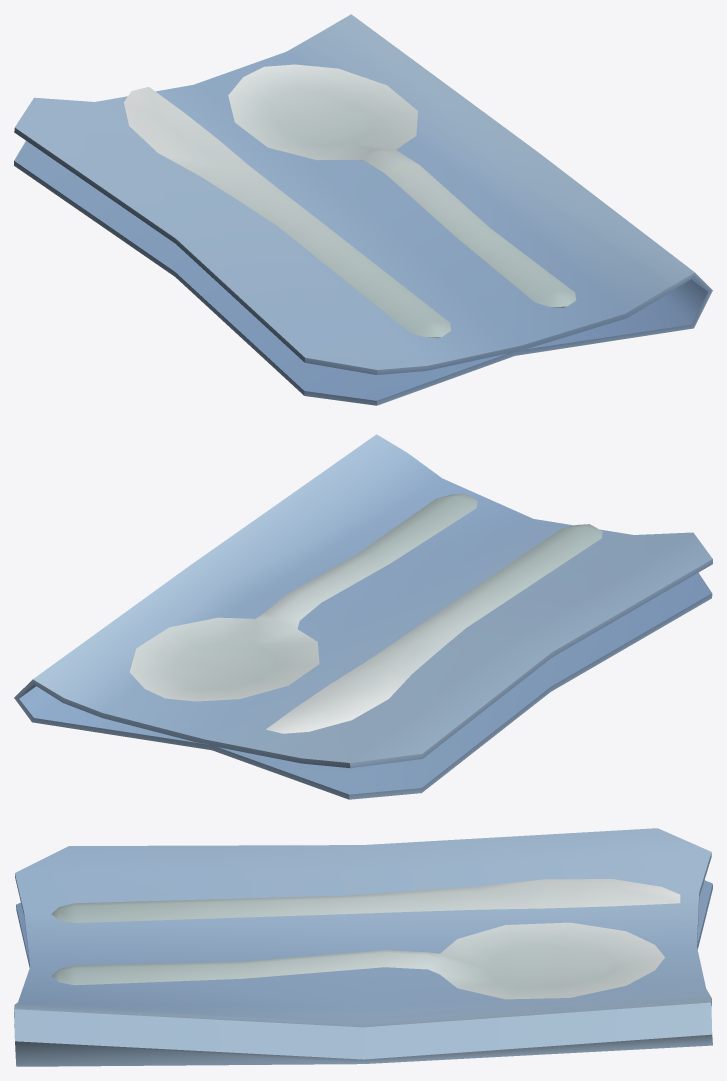
The model's file is CR_caf_Dish_008.FBX.
3 views of the same model, one above another, from view 1: azimuth 30°, elevation 25°; view 2: azimuth 150°, elevation 25°; view 3: azimuth 270°, elevation 25° (orthographic).
Visible parts, largest first — view 1: CR_caf_Dish_008; view 2: CR_caf_Dish_008; view 3: CR_caf_Dish_008.
Part boxes in pixels (x1,y1,x2,y2): CR_caf_Dish_008: [14, 14, 712, 405]; CR_caf_Dish_008: [14, 434, 712, 799]; CR_caf_Dish_008: [14, 828, 712, 1066].
Size of the model in its own units: 14.56 by 2.22 by 21.85.
